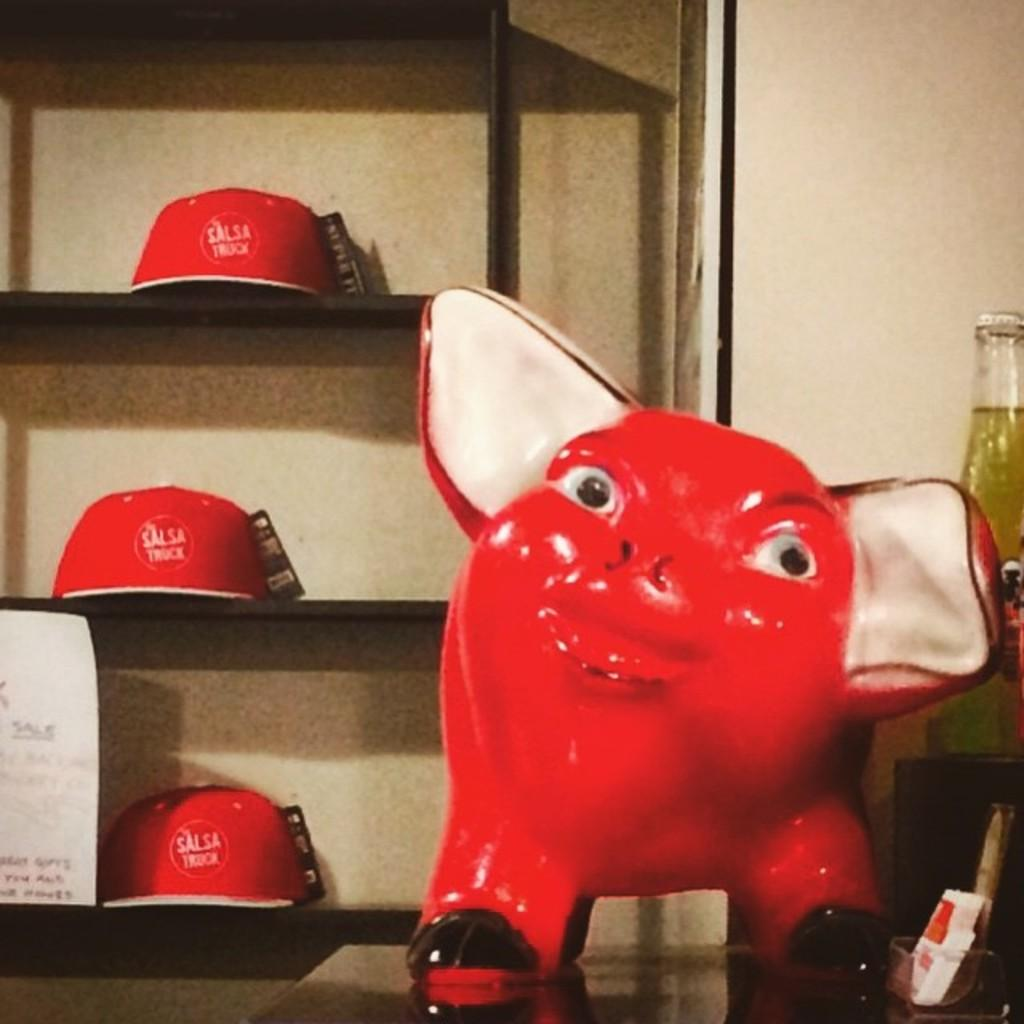Hat: (45, 474, 267, 608), (101, 786, 315, 910), (128, 186, 324, 298)
